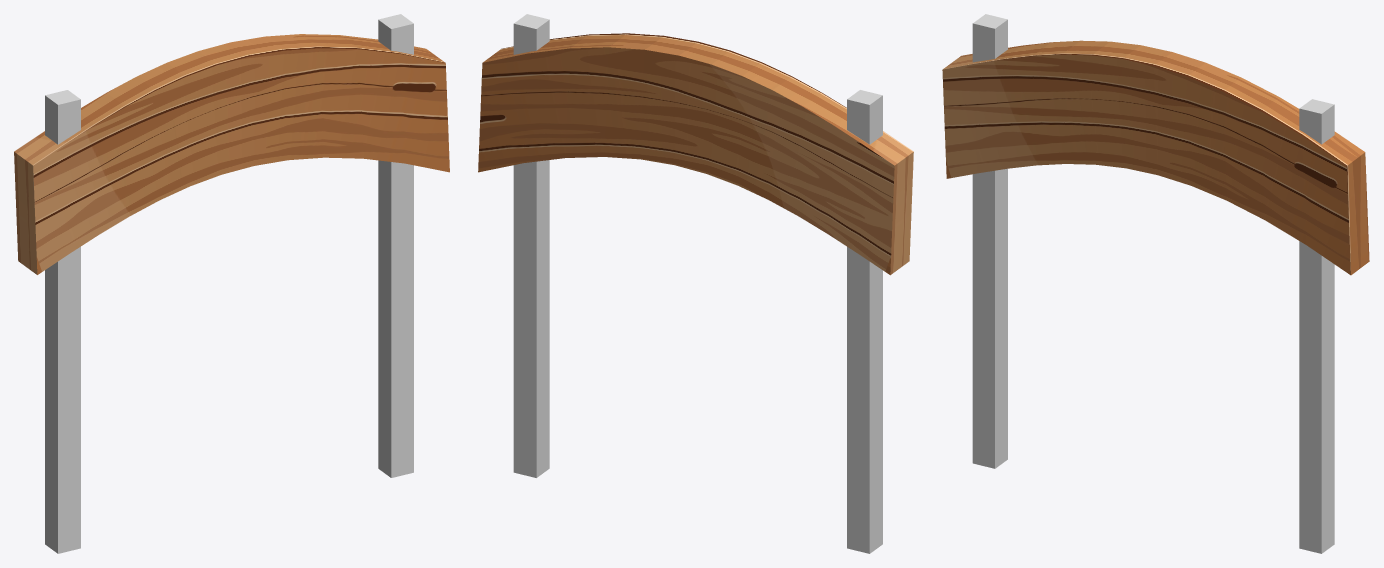
File: archBoard.fbx
3 views of the same model, side by side, from view 1: azimuth 30°, elevation 25°; view 2: azimuth 150°, elevation 25°; view 3: azimuth 330°, elevation 25° (orthographic). The views are drawn at different scales.
Parts seen in each view (by area): view 1: BezierCurve, Cube.001, Cube; view 2: BezierCurve, Cube.001, Cube; view 3: BezierCurve, Cube, Cube.001.
Boxes of the visible parts, box(x1,y1,x2,y2) form: BezierCurve: box(14, 34, 449, 274); Cube.001: box(378, 14, 413, 477); Cube: box(45, 90, 80, 553); BezierCurve: box(478, 33, 913, 275); Cube.001: box(513, 14, 549, 477); Cube: box(847, 90, 882, 553); BezierCurve: box(942, 40, 1369, 275); Cube: box(972, 14, 1007, 468); Cube.001: box(1299, 99, 1334, 553).
Size of the model in its own units: 200 by 16.52 by 211.
